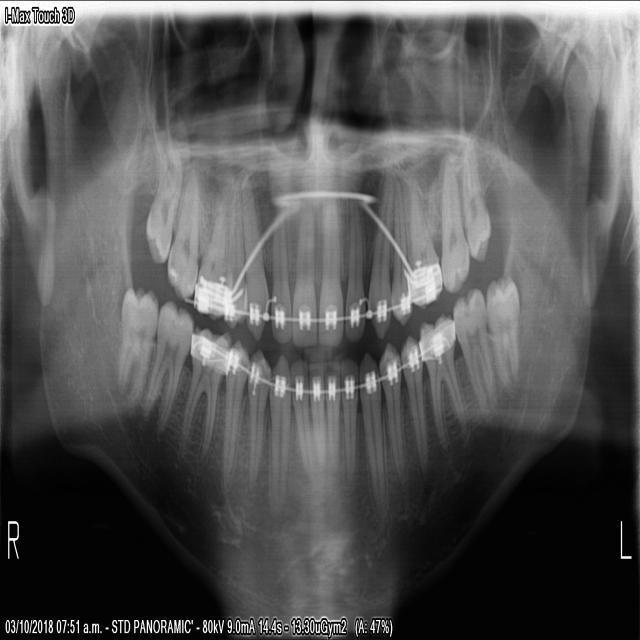LCD: (339, 356, 359, 488)
LCU: (390, 190, 413, 328)
LID: (306, 354, 327, 487), (322, 357, 342, 486)
LIU: (315, 203, 343, 350), (341, 203, 366, 344)
LMD: (415, 306, 472, 460), (450, 289, 497, 415), (482, 269, 522, 396), (398, 334, 429, 486)
LMU: (458, 153, 492, 265)
LPMD: (375, 337, 410, 493), (356, 351, 387, 516)
LPMU: (402, 185, 443, 310), (439, 158, 472, 297), (364, 179, 391, 339)
RCD: (245, 354, 272, 486)
RCU: (238, 178, 270, 342)
RID: (289, 351, 315, 487), (266, 353, 288, 502)
RIU: (289, 209, 317, 348), (267, 200, 292, 346)
RMD: (141, 294, 194, 434), (111, 279, 160, 410)
RMU: (144, 140, 185, 271), (166, 158, 199, 299)
RPMD: (173, 325, 232, 476), (217, 332, 251, 497)
RPMU: (190, 186, 230, 322), (220, 178, 246, 331)
